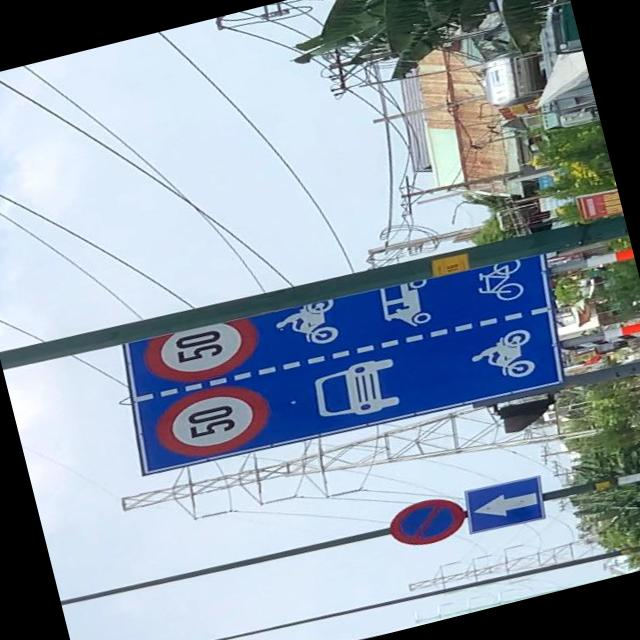I-407a: (462, 474, 546, 534)
P-131a: (384, 489, 468, 552)
